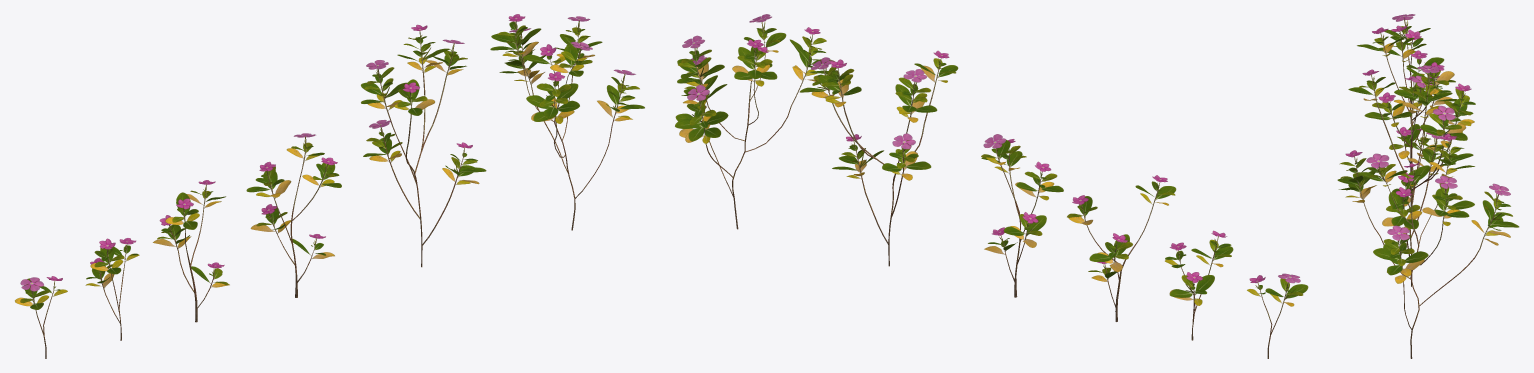
Rendered from periwinkle.glb.
3 views of the same model, side by side, from view 1: azimuth 30°, elevation 25°; view 2: azimuth 150°, elevation 25°; view 3: azimuth 270°, elevation 25° (orthographic). The views are drawn at different scales.
Visible parts, largest first — view 1: periwinkle_plant_01_LOD2; view 2: periwinkle_plant_01_LOD2; view 3: periwinkle_plant_01_LOD2.
Part boxes in pixels (left/top/right/bottom): periwinkle_plant_01_LOD2: left=15, top=14, right=644, bottom=358; periwinkle_plant_01_LOD2: left=675, top=14, right=1308, bottom=358; periwinkle_plant_01_LOD2: left=1337, top=14, right=1519, bottom=358.
Bounding box in the file's own units: 1.24 × 0.4104 × 0.3207.
1 material, 1 textured.
